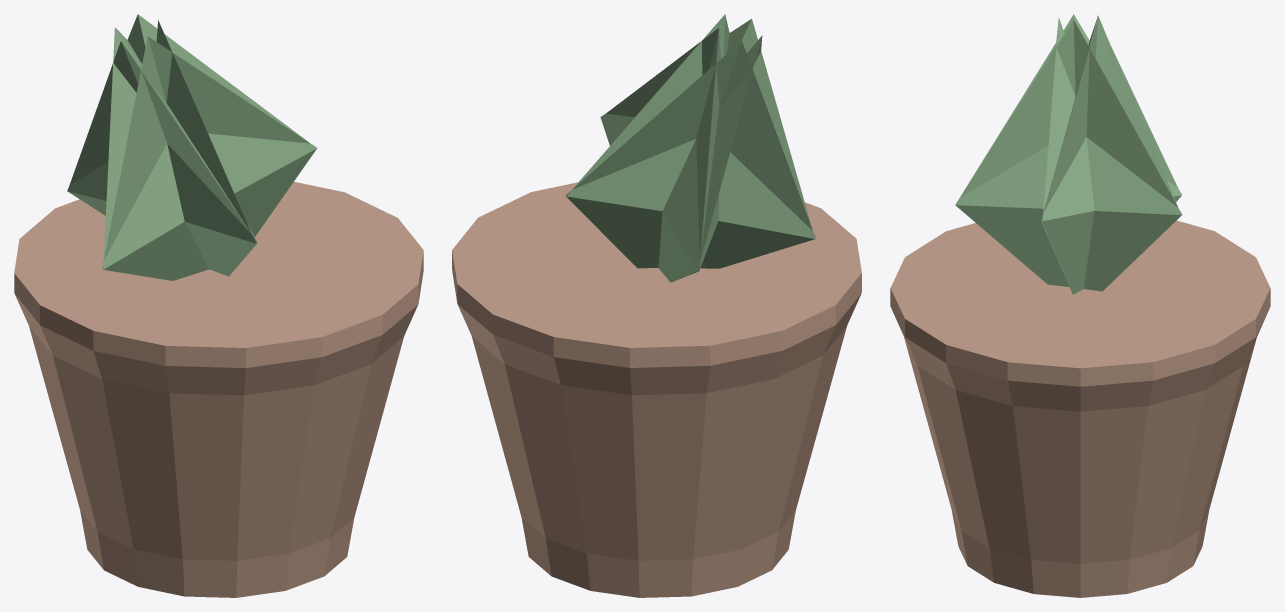
File: planter.glb
3 views of the same model, side by side, from view 1: azimuth 30°, elevation 25°; view 2: azimuth 150°, elevation 25°; view 3: azimuth 270°, elevation 25° (orthographic). The views are drawn at different scales.
Visible parts, largest first — view 1: planter; view 2: planter; view 3: planter.
Boxes of the visible parts, x1,y1,x2,y2 form: planter: (14, 14, 423, 597); planter: (452, 14, 861, 597); planter: (890, 14, 1270, 597).
Bounding box in the file's own units: 0.56 × 0.8093 × 0.56.
